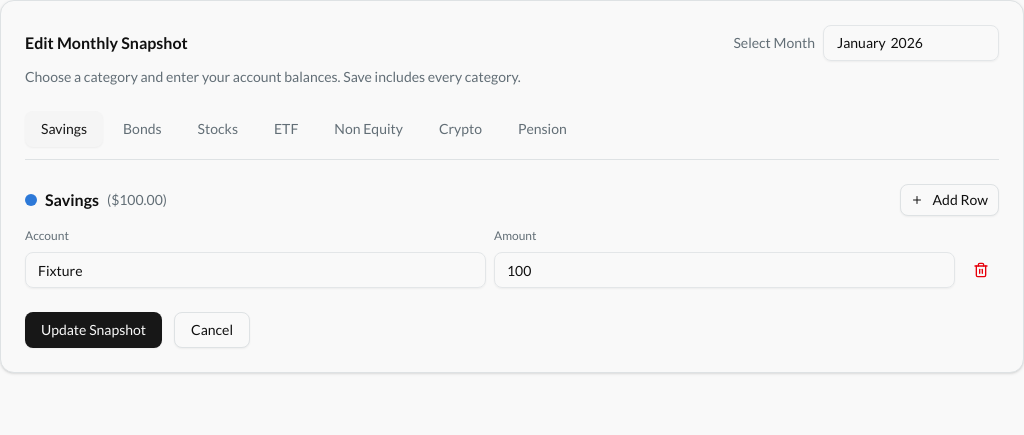
Test: keeps a dirty editor visible when a background read fails
This screenshot has width=1024, height=435.
Expected: the button "Update Snapshot" is shown, x1=25 y1=312 x2=162 y2=348
Replace the text in the number field with "123" at x=724, y=270, box x1=494 y1=252 x2=955 y2=288
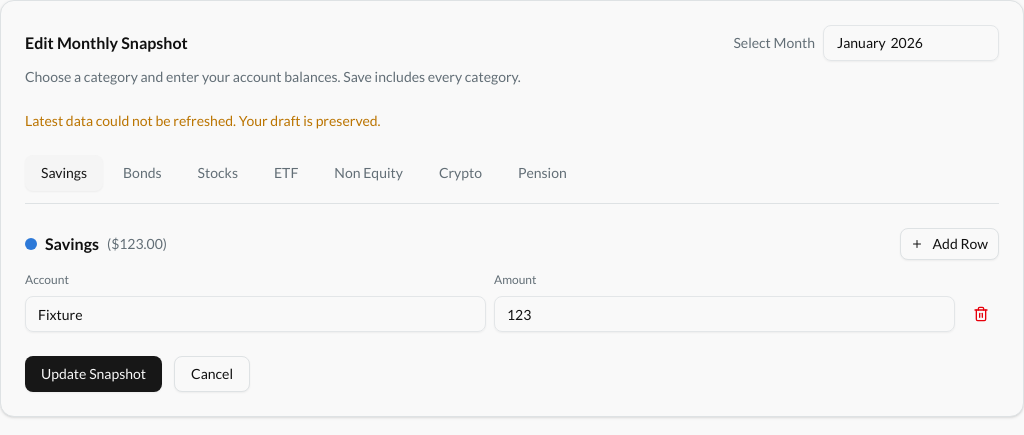
Expected: the text "Latest data could not be refreshed. Your draft is preserved." is shown, x1=25 y1=112 x2=380 y2=129
